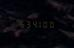four: (30, 19, 35, 27)
one: (36, 19, 41, 28)
six: (17, 19, 22, 27)
three: (23, 19, 28, 27)
zero: (42, 20, 47, 28), (48, 20, 53, 28)
